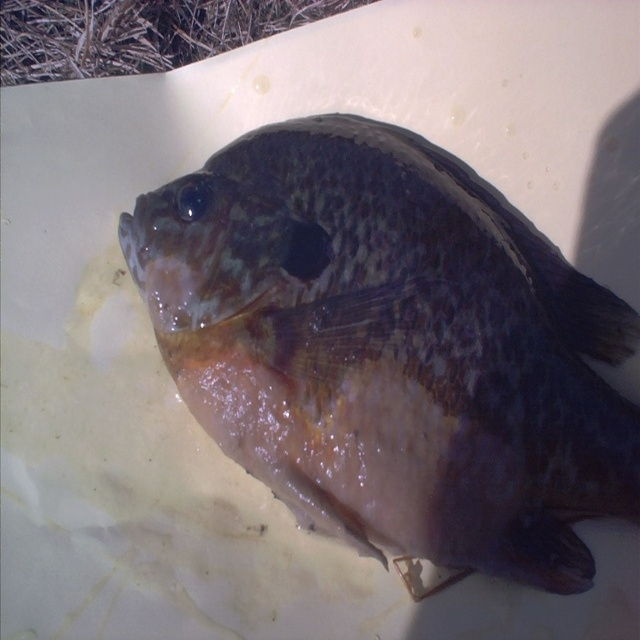Fish: (113, 93, 610, 621)
